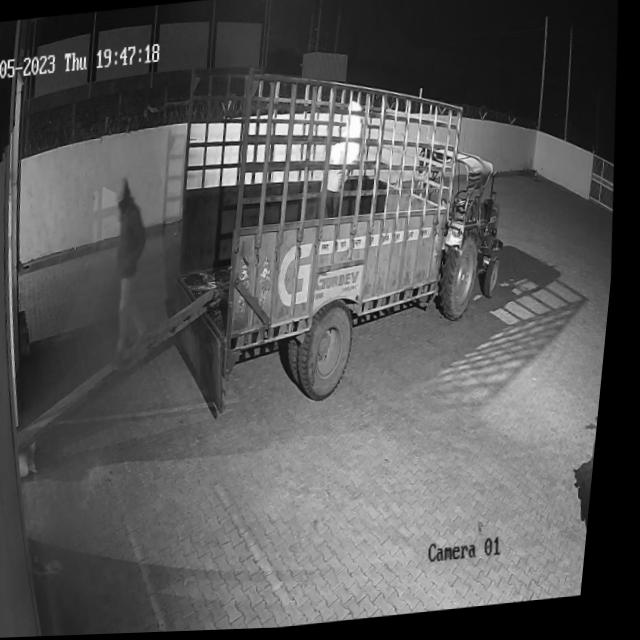sack: (342, 100, 373, 171)
